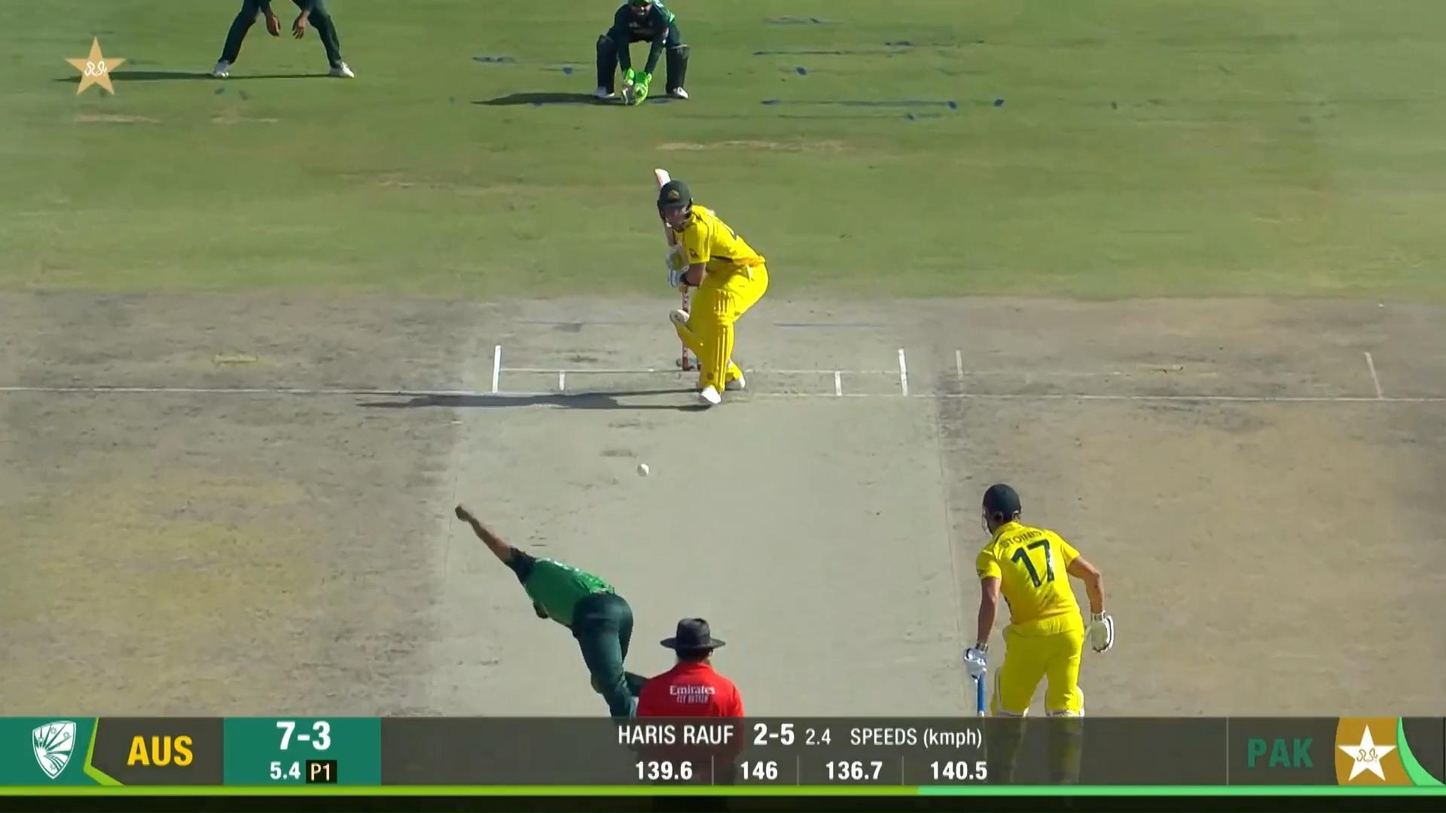BM 1: (651, 166, 768, 406)
BO: (454, 502, 652, 719)
